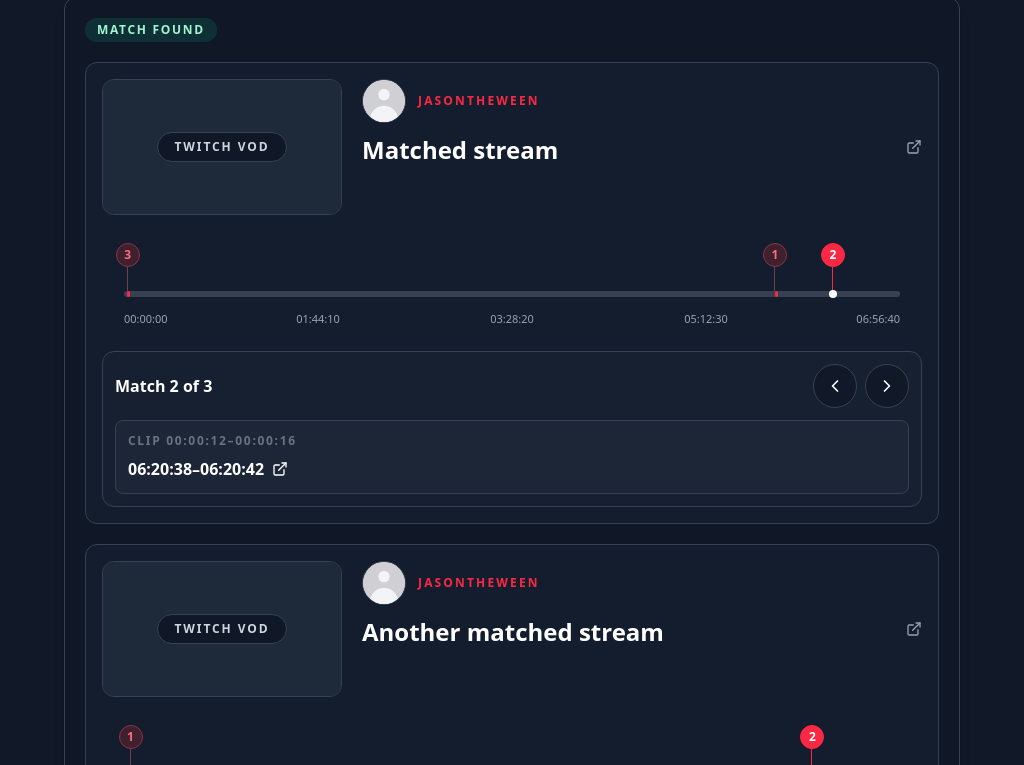
Test: SearchResultCard › keeps separate VOD carousels independent
This screenshot has width=1024, height=765.
What coordinates should you click on to do the following:
click the button named "Previous match"
I would click on:
 (835, 386)
Its box is [813, 364, 857, 408].
(page scrolled)
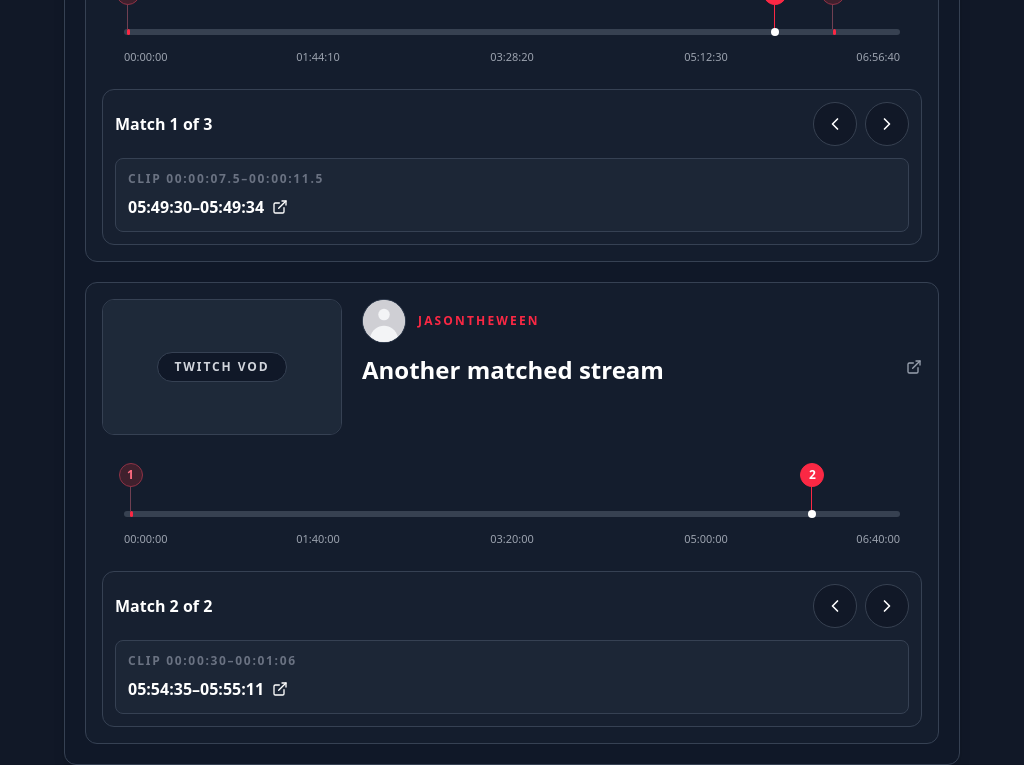
Expected: the text "Match 2 of 2" is shown, [115, 595, 212, 617]
Expected: the text "Match 1 of 3" is shown, [115, 113, 212, 135]
What coordinates should you click on to do the following:
click the button named "Previous match" below "05:00:00"
I would click on:
 (835, 606)
Its box is [813, 584, 857, 628].
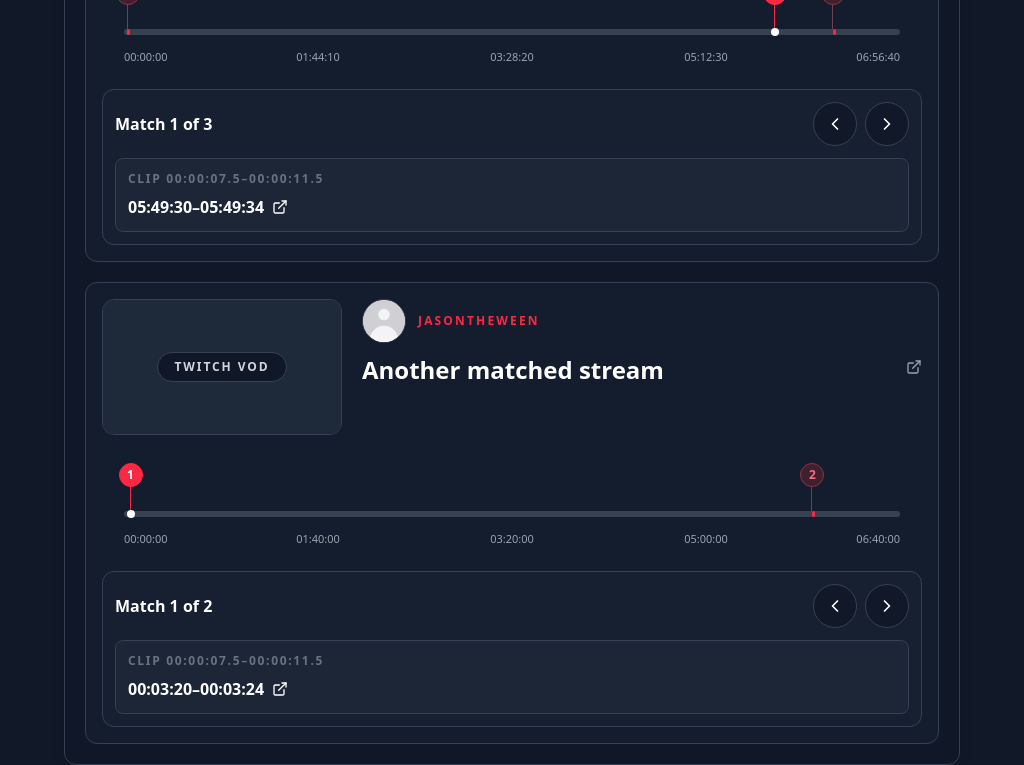
Expected: the text "Match 1 of 3" is shown, [115, 113, 212, 135]
Expected: the text "Match 1 of 2" is shown, [115, 595, 212, 617]
